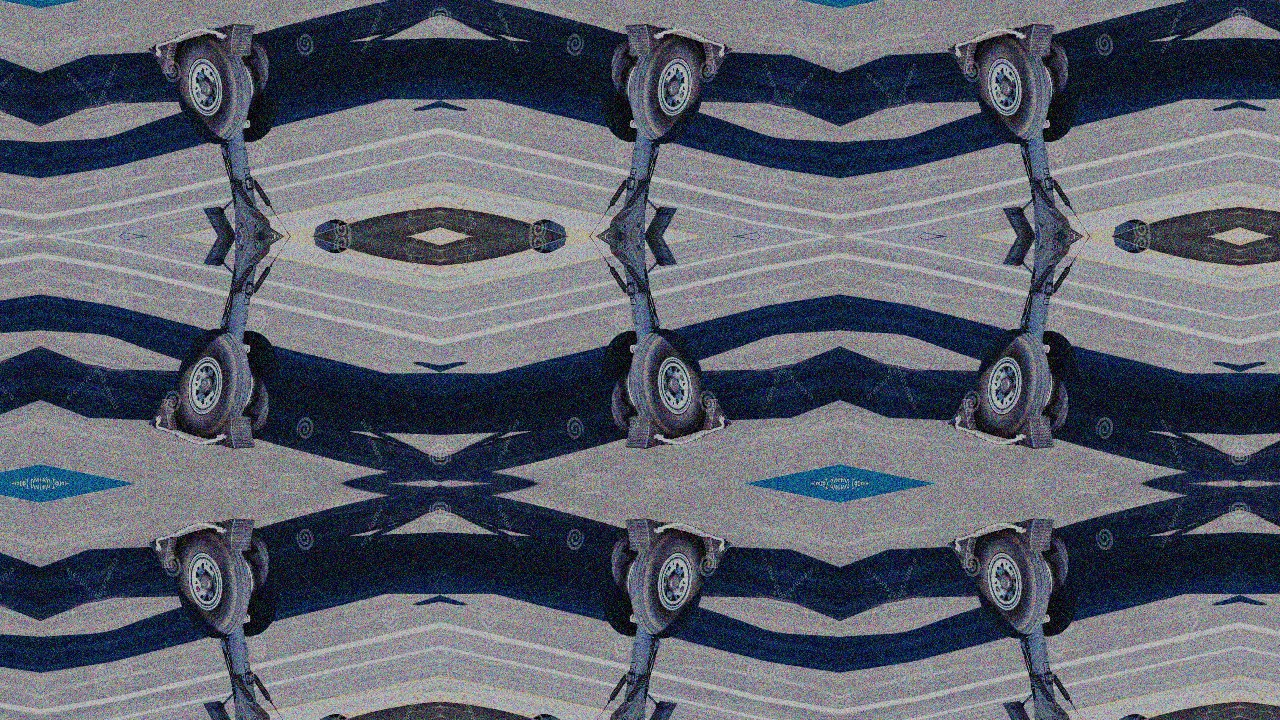chock: (215, 19, 262, 62), (618, 19, 665, 62), (1015, 19, 1062, 62), (215, 411, 262, 454), (618, 411, 665, 454), (1015, 411, 1062, 454), (215, 514, 262, 557), (618, 514, 665, 557), (1015, 514, 1062, 557), (147, 38, 183, 78), (697, 38, 733, 78), (947, 38, 983, 78), (147, 533, 183, 573), (697, 533, 733, 573), (947, 533, 983, 573), (147, 395, 183, 434), (697, 395, 733, 434), (947, 395, 983, 434)
wheel: (167, 29, 260, 150), (620, 29, 713, 150), (967, 29, 1060, 150), (167, 322, 260, 443), (620, 322, 713, 443), (967, 322, 1060, 443), (167, 524, 260, 645), (620, 524, 713, 645), (967, 524, 1060, 645), (222, 30, 290, 144), (590, 30, 658, 144), (1022, 30, 1090, 144), (222, 328, 290, 442), (590, 328, 658, 442), (1022, 328, 1090, 442), (222, 525, 290, 639), (590, 525, 658, 639), (1022, 525, 1090, 639)
